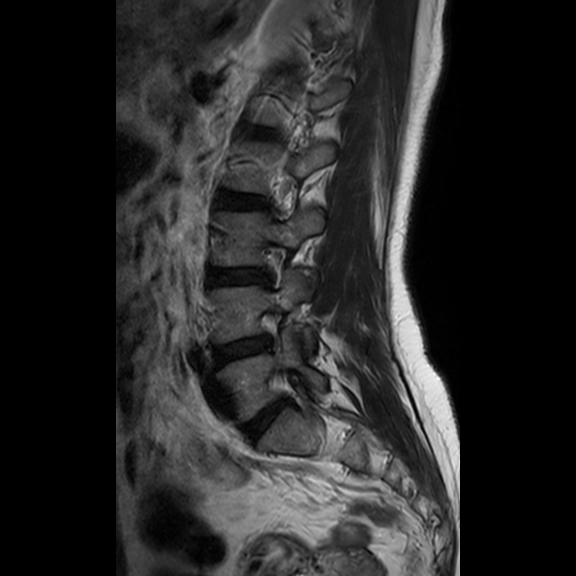LFS1: (242, 298, 293, 362), (242, 238, 295, 295)
